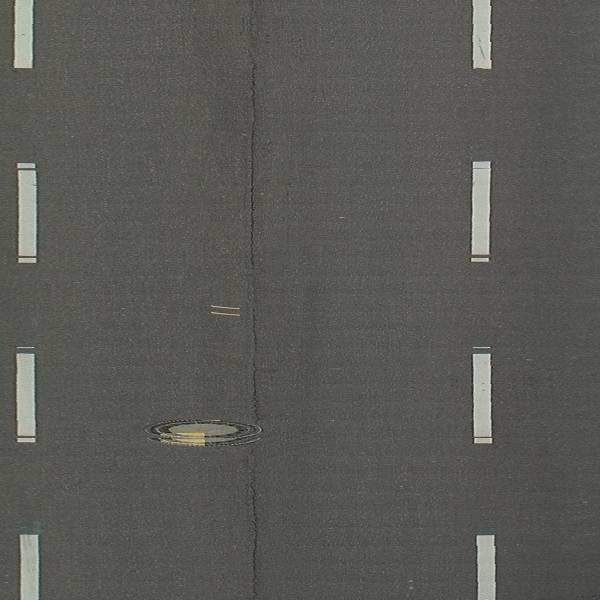road_damage: (247, 59, 263, 416)
